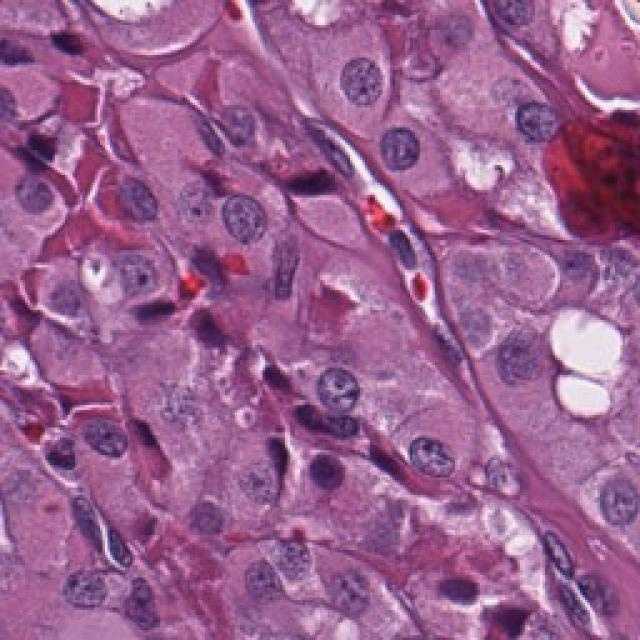abnormal: (191, 162, 298, 265), (114, 227, 206, 326), (99, 151, 193, 245), (560, 460, 640, 570), (306, 347, 391, 445), (292, 548, 389, 632), (476, 320, 565, 411), (45, 555, 143, 637), (7, 151, 85, 248), (326, 28, 397, 129), (397, 416, 479, 500), (76, 385, 143, 487), (493, 65, 564, 160), (23, 251, 93, 343), (370, 108, 445, 193), (222, 532, 293, 616)
